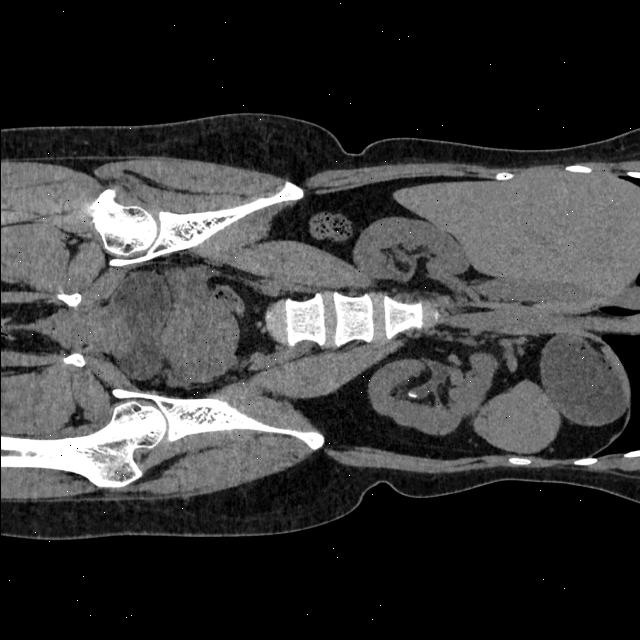kidneystone: (406, 391, 418, 400)
